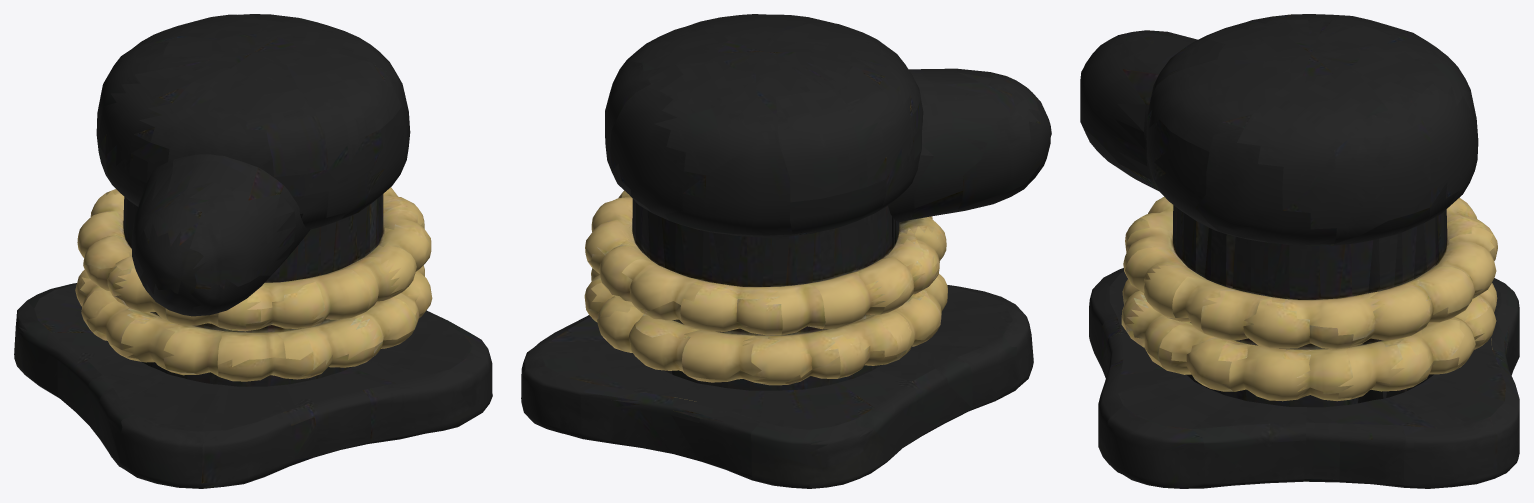
Rendered from la_noray.glb.
The picture shows the model from 3 angles, left to right: view 1: azimuth 30°, elevation 25°; view 2: azimuth 150°, elevation 25°; view 3: azimuth 270°, elevation 25°; orthographic projection. The views are drawn at different scales.
Bounding box in the file's own units: 1 × 0.8848 × 1.
1 material, 1 textured.
